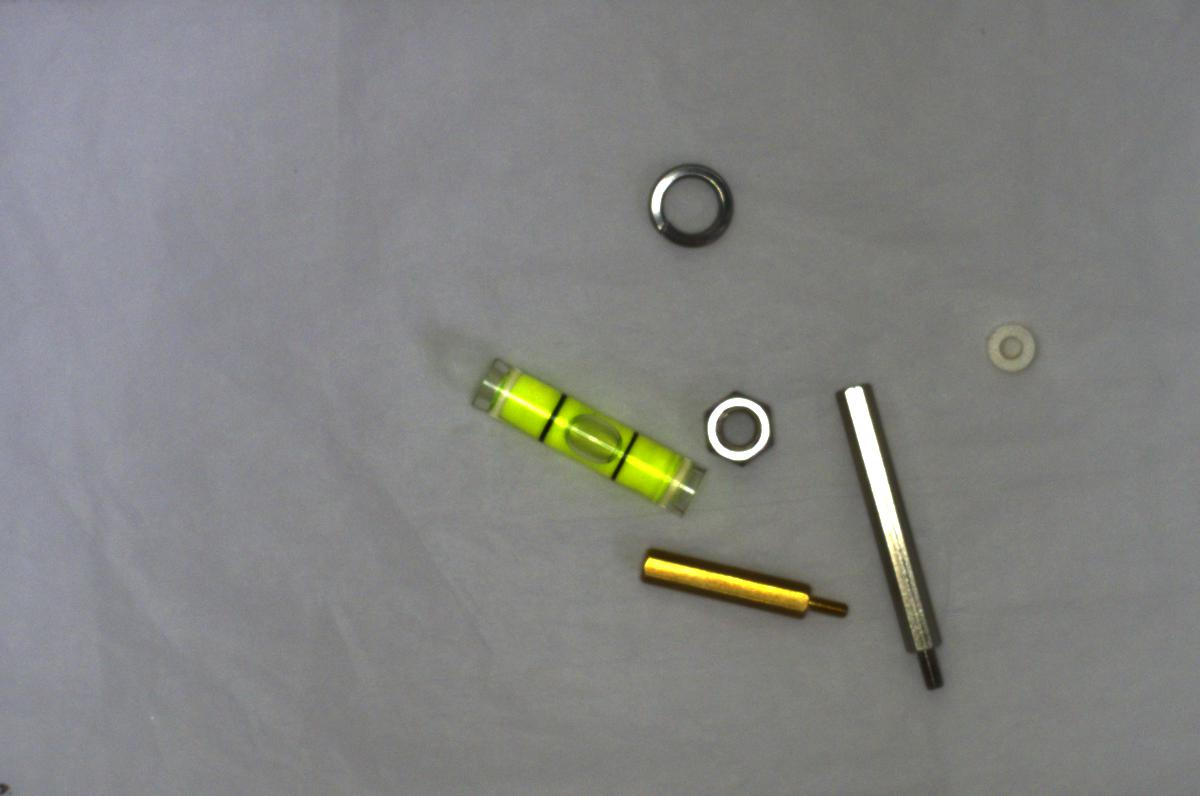Hexagon nut: (697, 380, 779, 475)
Hexagon pillar: (631, 543, 852, 622)
Hexagonal steel column: (830, 379, 951, 694)
Horizontal bubble: (467, 353, 706, 518)
Plastic cushion pillar: (975, 318, 1050, 385)
Spring washer: (639, 155, 745, 253)
